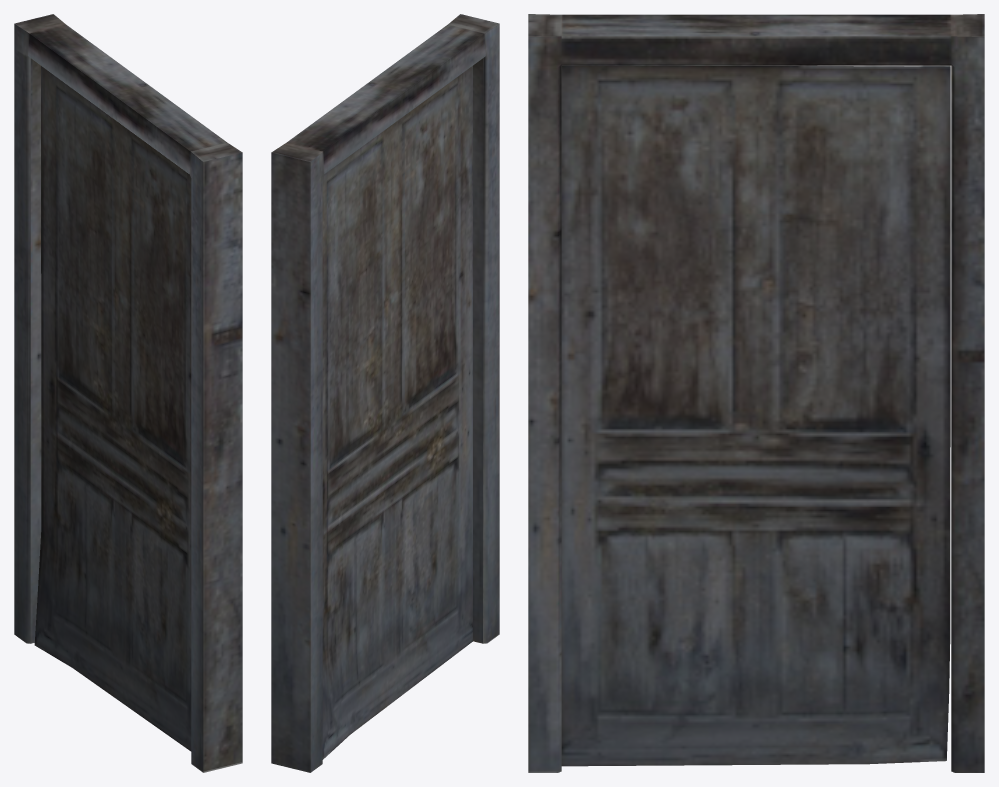
Rendered from Wooden_SingleDoorSet_02.FBX.
The picture shows the model from 3 angles, left to right: view 1: azimuth 30°, elevation 25°; view 2: azimuth 150°, elevation 25°; view 3: azimuth 270°, elevation 25°; orthographic projection. The views are drawn at different scales.
Parts seen in each view (by area): view 1: Wooden_SingleDoor_02, Wooden_SingleDoorFrame_02; view 2: Wooden_SingleDoor_02, Wooden_SingleDoorFrame_02; view 3: Wooden_SingleDoor_02, Wooden_SingleDoorFrame_02.
Part boxes in pixels (bbox=[...]): Wooden_SingleDoor_02: bbox=[34, 66, 191, 751]; Wooden_SingleDoorFrame_02: bbox=[14, 14, 242, 772]; Wooden_SingleDoor_02: bbox=[322, 66, 472, 759]; Wooden_SingleDoorFrame_02: bbox=[271, 14, 499, 772]; Wooden_SingleDoor_02: bbox=[561, 65, 950, 766]; Wooden_SingleDoorFrame_02: bbox=[528, 14, 984, 772].
Size of the model in its own units: 15 by 223 by 125.
